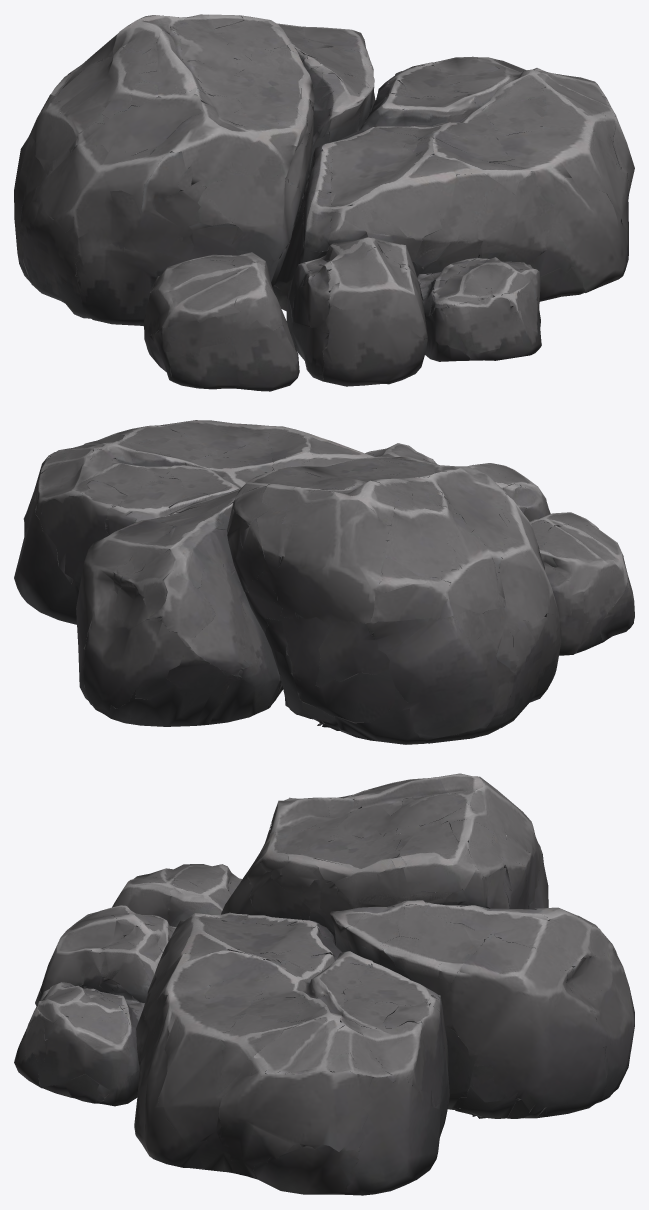
Rendered from boulder_1.glb.
The picture shows the model from 3 angles, top to bottom: view 1: azimuth 30°, elevation 25°; view 2: azimuth 150°, elevation 25°; view 3: azimuth 270°, elevation 25°; orthographic projection. The views are drawn at different scales.
Parts seen in each view (by area): view 1: Mesh_0; view 2: Mesh_0; view 3: Mesh_0.
Boxes of the visible parts, left/top/right/bottom form: Mesh_0: left=14, top=14, right=634, bottom=391; Mesh_0: left=14, top=420, right=634, bottom=744; Mesh_0: left=14, top=773, right=634, bottom=1195.
Size of the model in its own units: 1.9 by 0.7392 by 1.83.
Materials: 1 (1 with a texture image).
